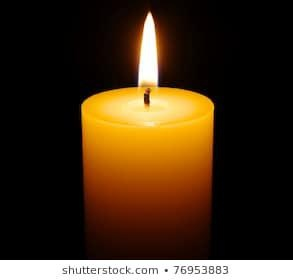fire: (137, 10, 160, 89)
